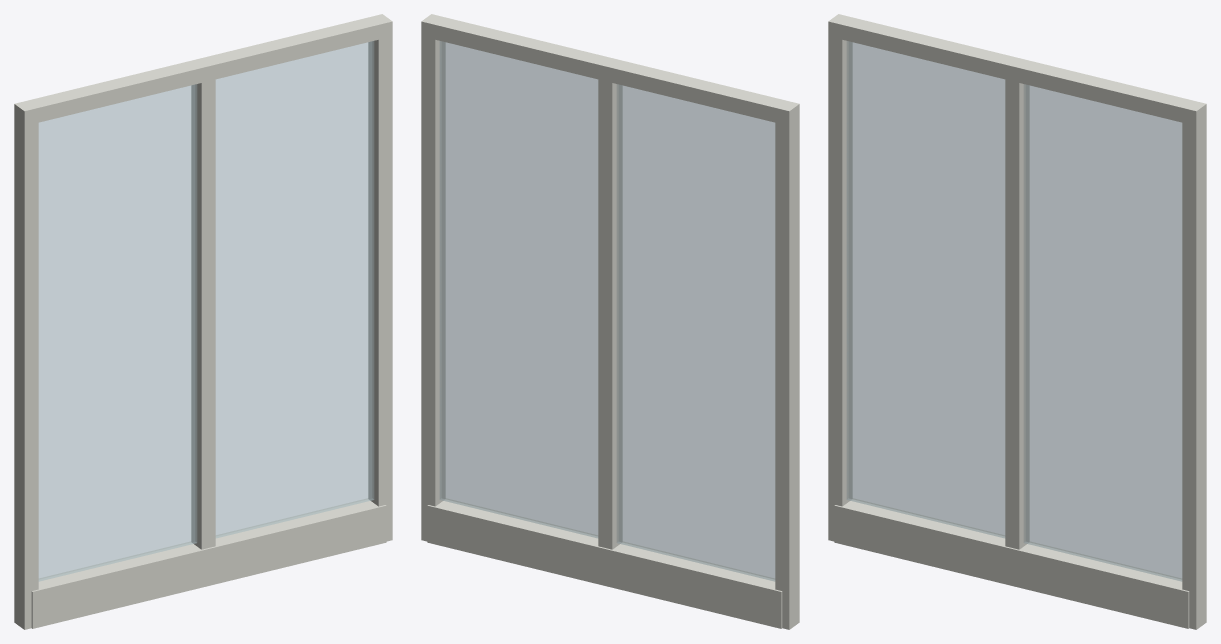
The model's file is Greenhouse_Wall.fbx.
3 renders of one model, left to right at view 1: azimuth 30°, elevation 25°; view 2: azimuth 150°, elevation 25°; view 3: azimuth 330°, elevation 25°, orthographic.
Parts seen in each view (by area): view 1: Greenhouse_Wall_Body; view 2: Greenhouse_Wall_Body; view 3: Greenhouse_Wall_Body.
Boxes of the visible parts, bbox=[...] form: Greenhouse_Wall_Body: bbox=[14, 14, 392, 629]; Greenhouse_Wall_Body: bbox=[421, 14, 799, 629]; Greenhouse_Wall_Body: bbox=[828, 14, 1206, 629].
Bounding box in the file's own units: 1.04 × 1.4 × 0.06.
